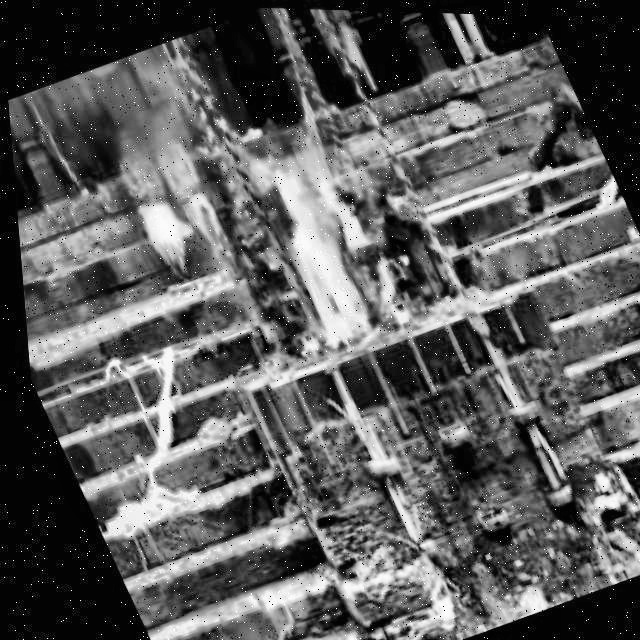Fire: (242, 134, 416, 358)
